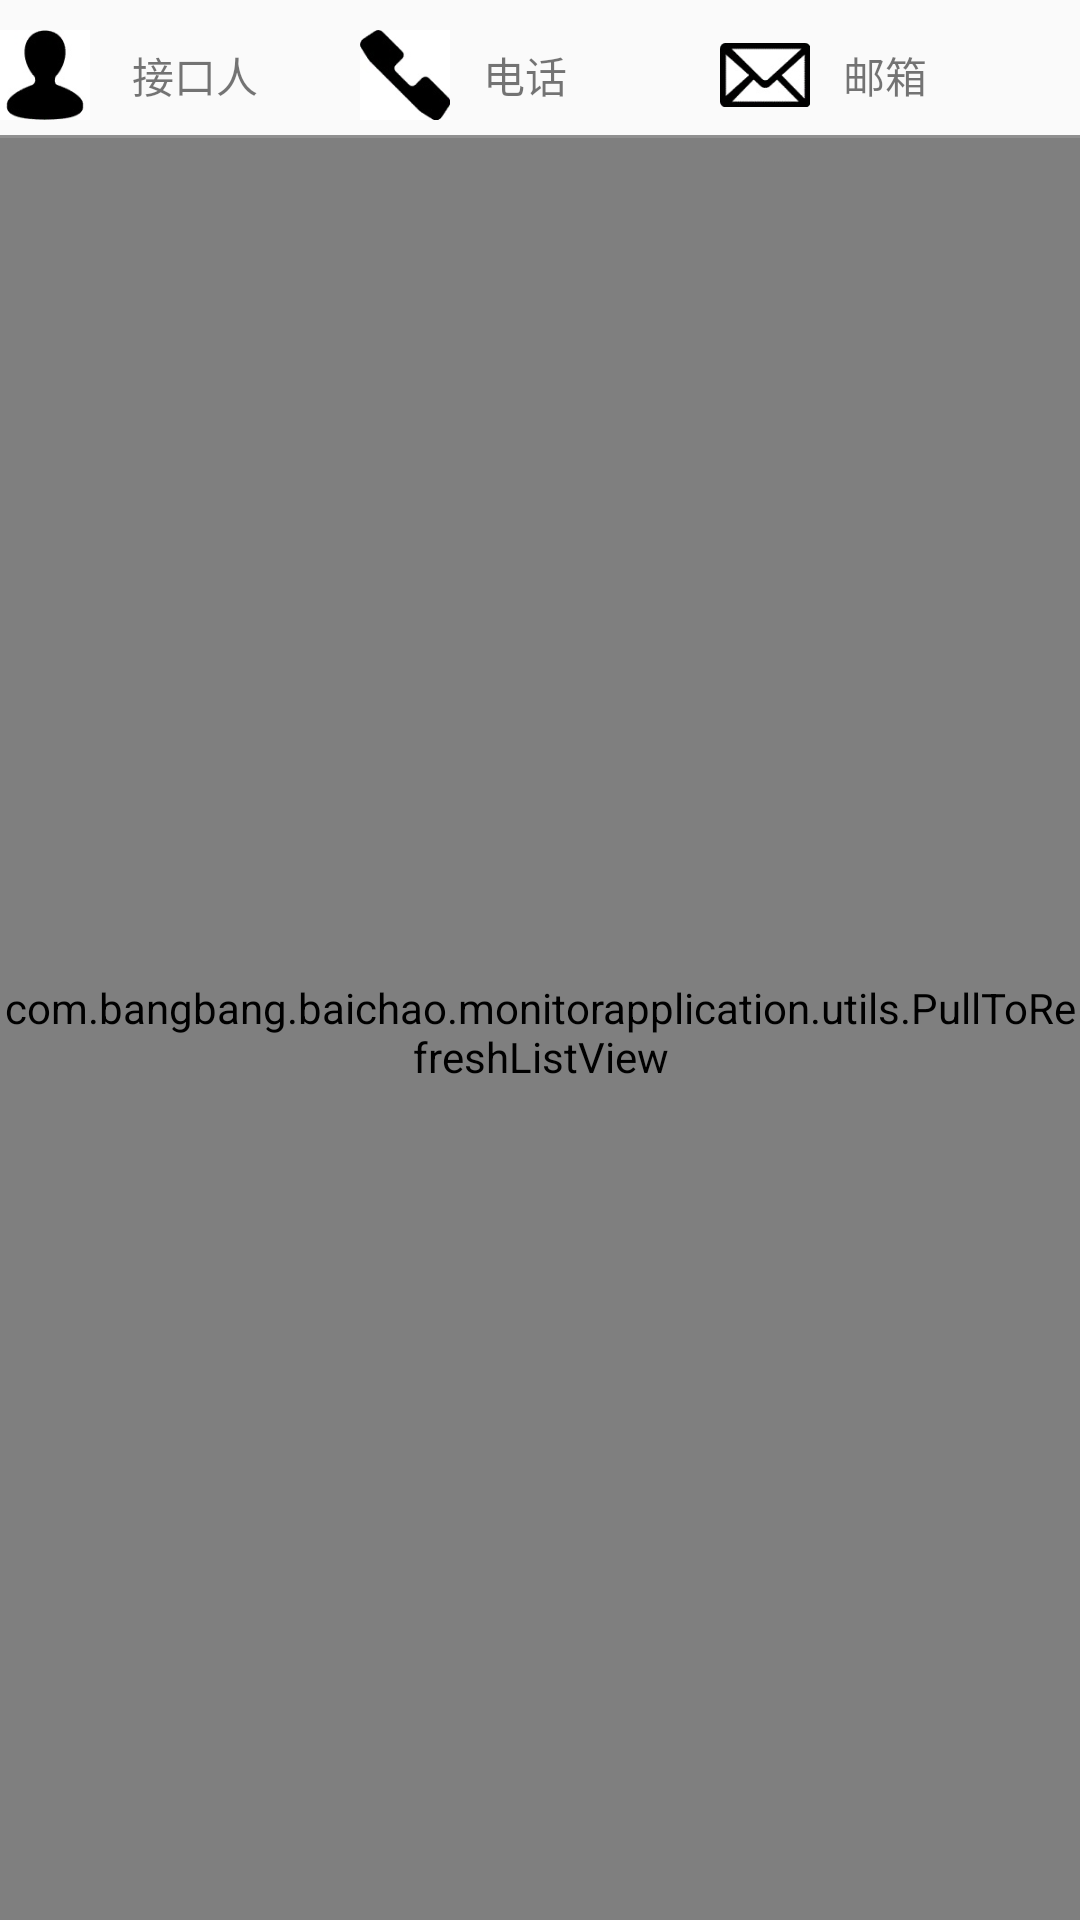

Screen size 1080*1920. Icon name, then its box in pixels as (left=x1, top=y1, right=x2, bottom=y2):
mail: (left=720, top=43, right=810, bottom=107)
tel: (left=360, top=30, right=450, bottom=120)
